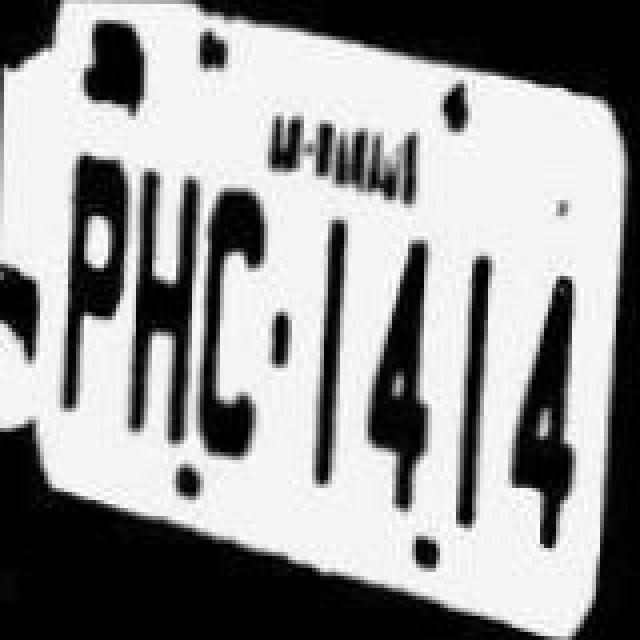1: (452, 252, 504, 556), (308, 212, 356, 488)
4: (518, 262, 606, 562), (360, 232, 440, 512)
C: (194, 186, 278, 470)
H: (124, 166, 204, 454)
P: (50, 142, 134, 426)
